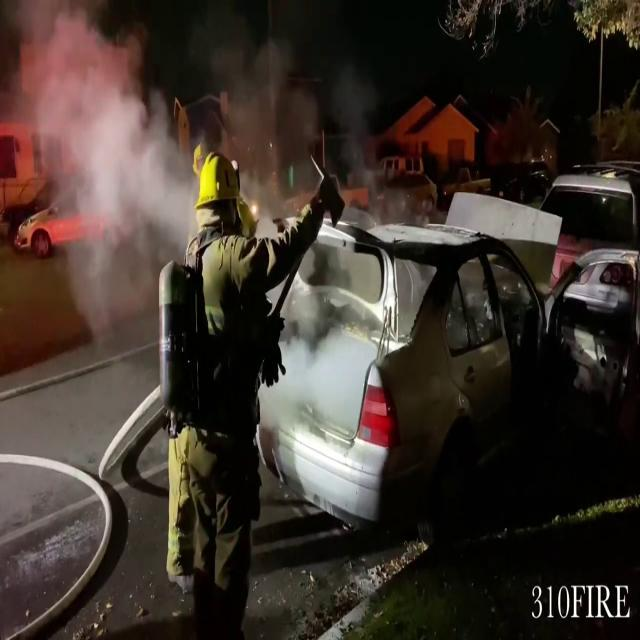Smoke: (4, 3, 188, 310), (202, 34, 331, 220), (327, 60, 385, 199)
